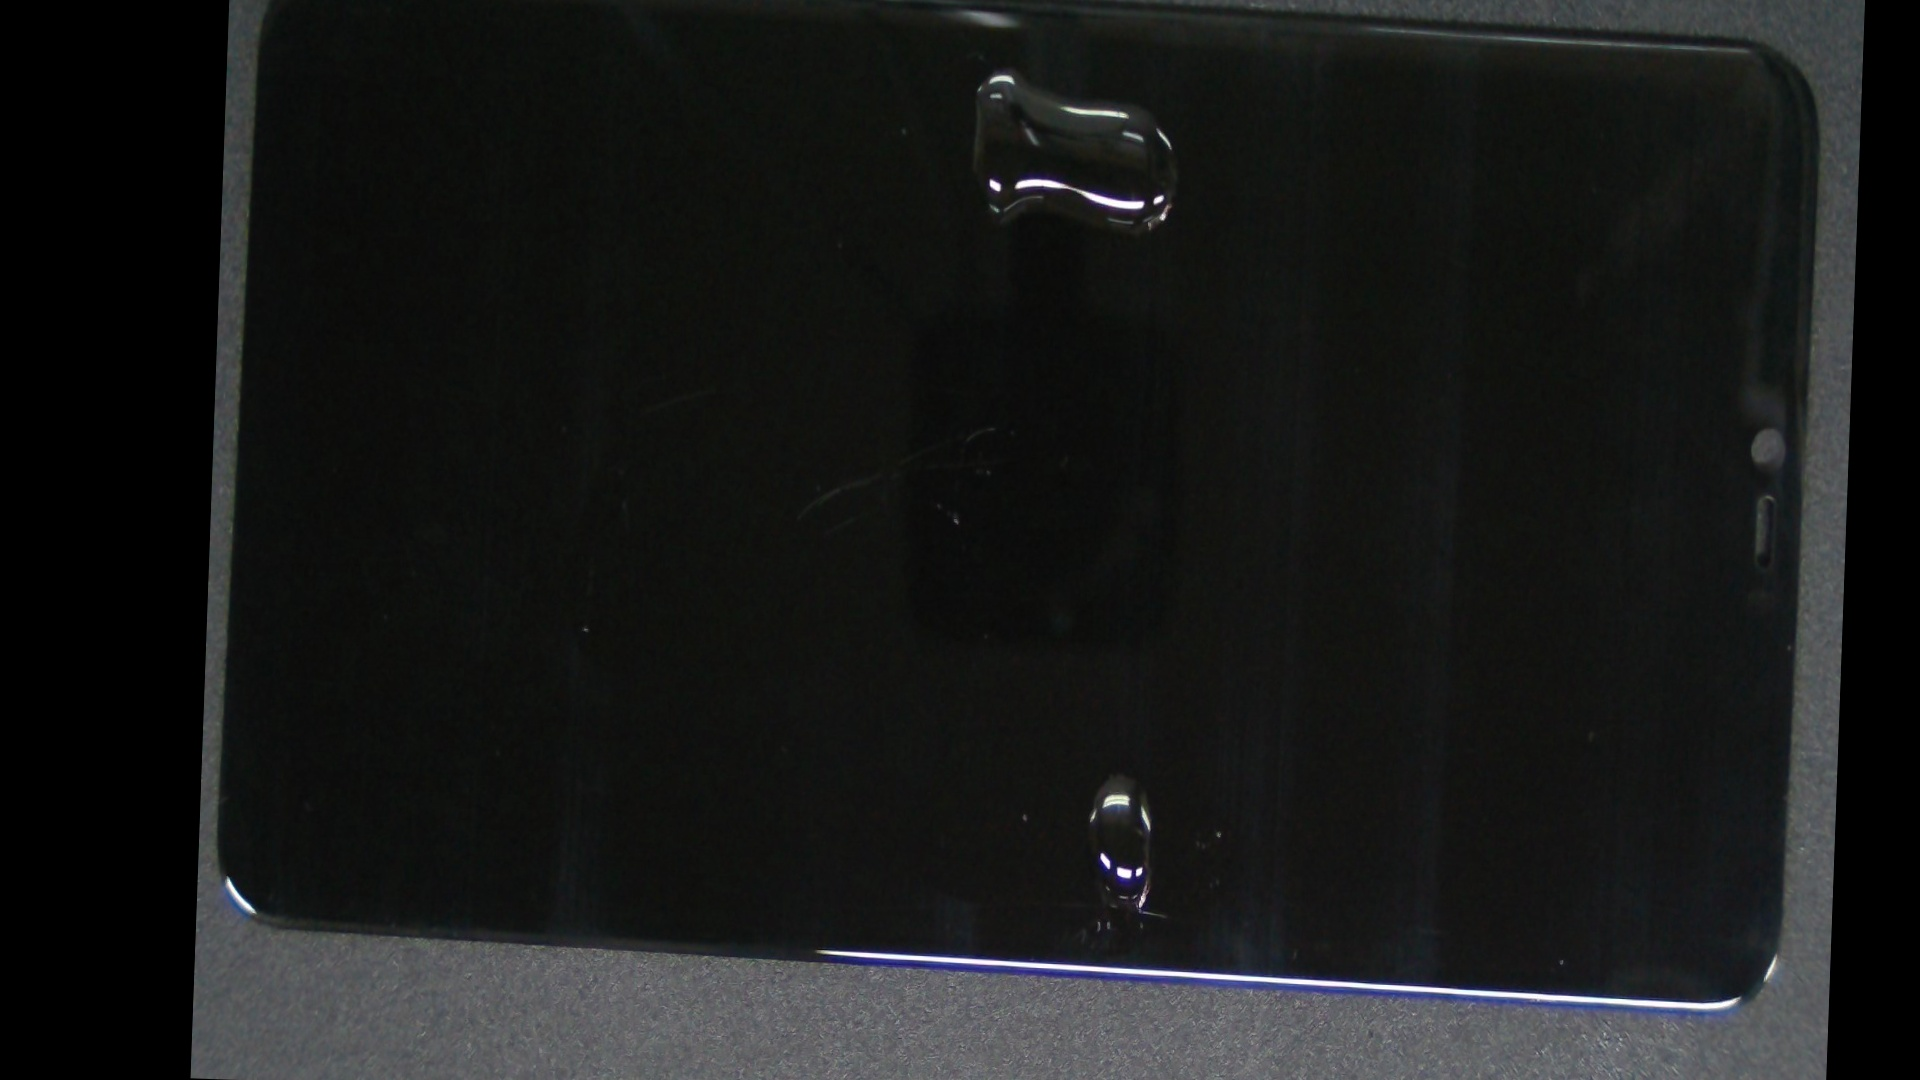oil: (653, 323, 1602, 1080), (618, 0, 1411, 167)
